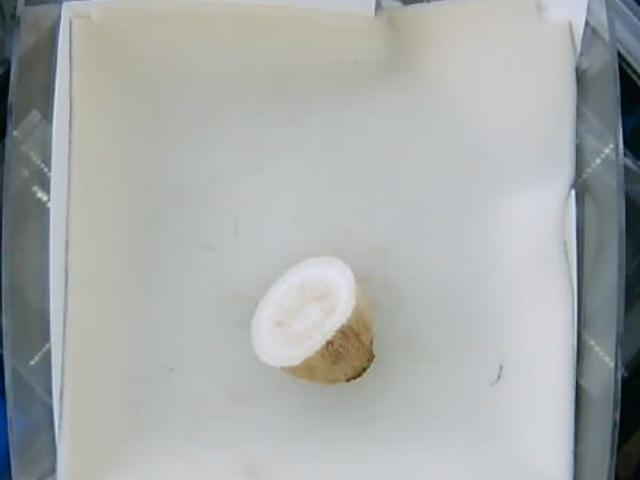Mooli: (250, 252, 378, 381)
